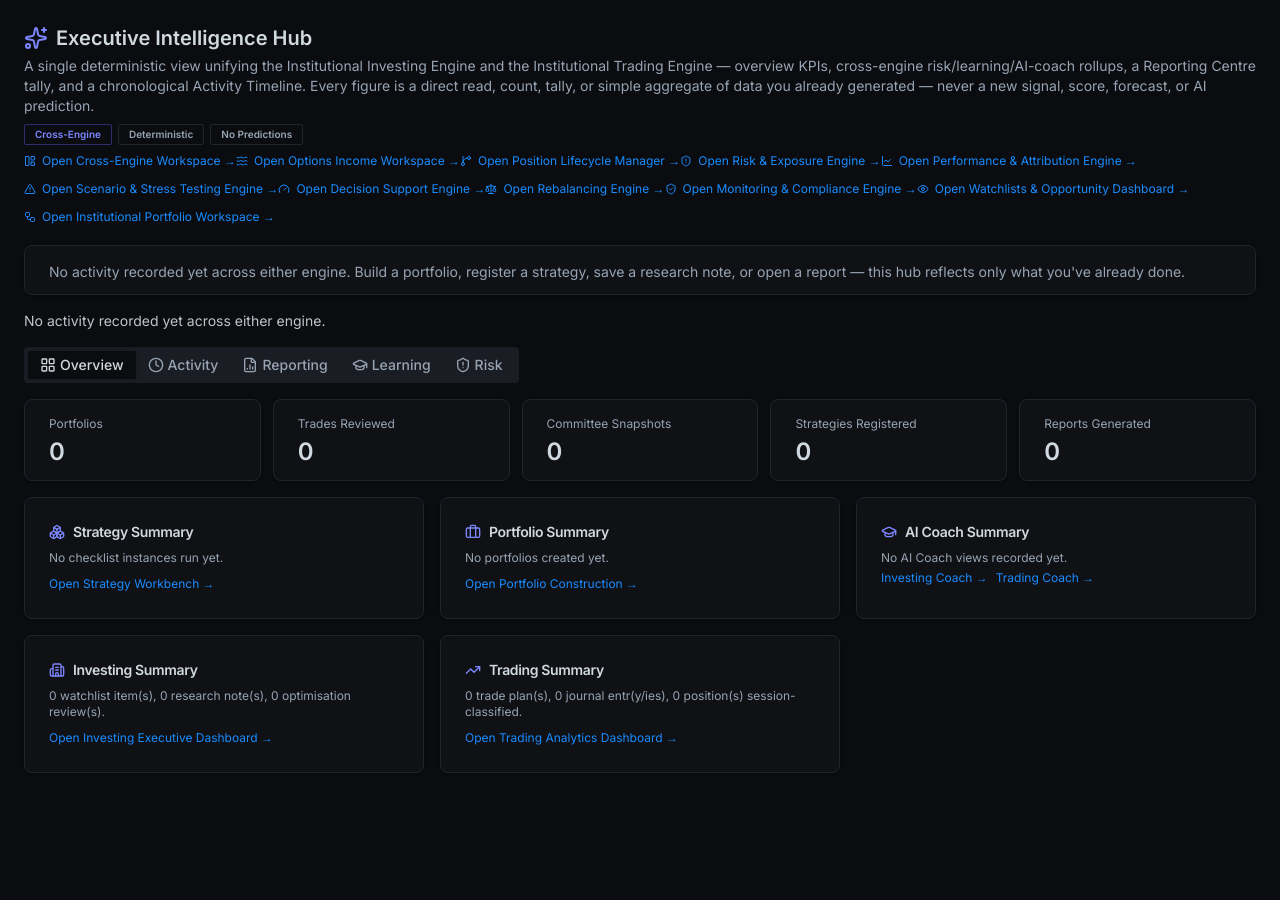
Test: ExecutiveIntelligence page › Activity tab honestly shows an empty message when no activity exists yet
What coordinates should you click on to do the following:
click the tab with test id "tab-executive-activity"
I would click on:
 (183, 365)
Its box is [136,351,230,379].
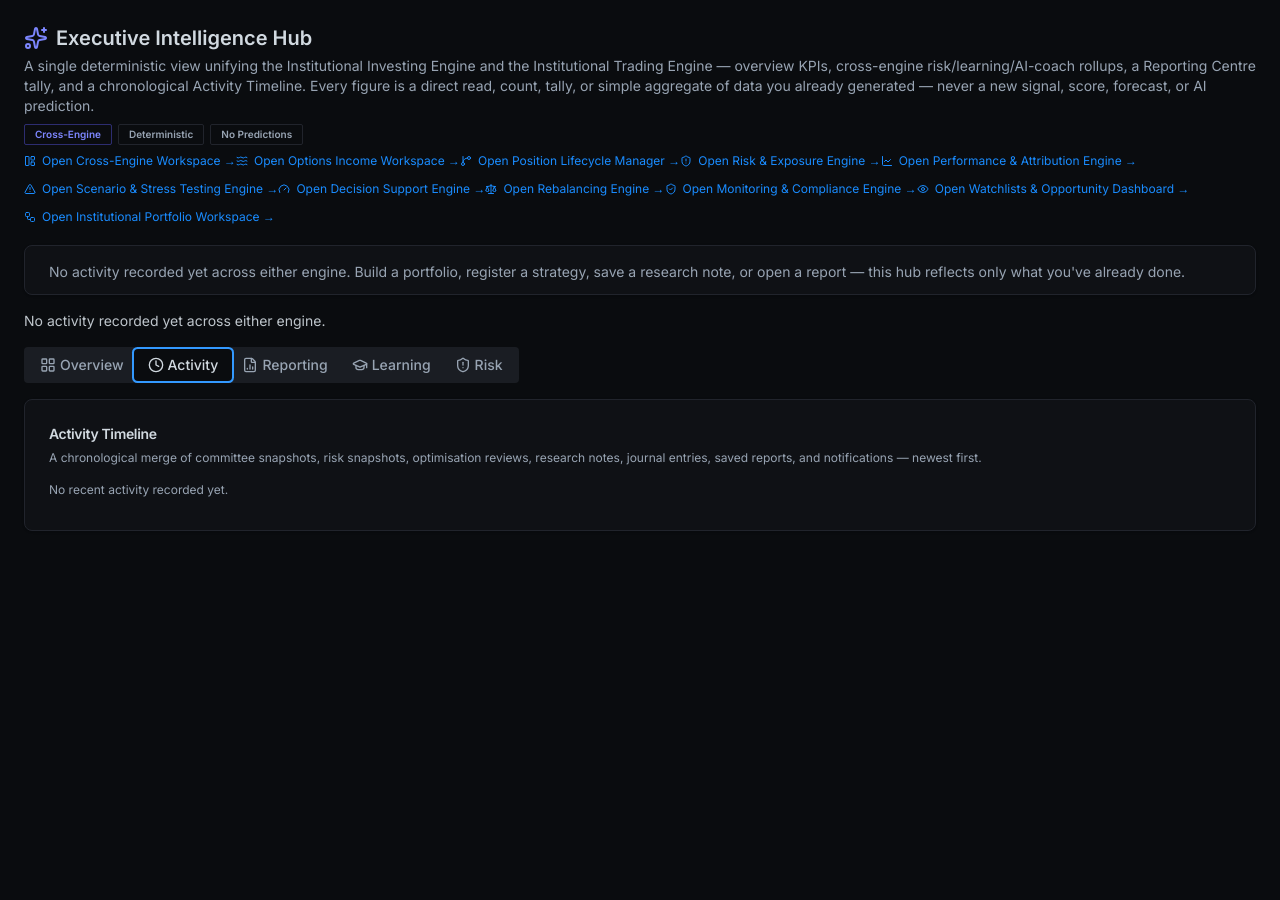
Expected: the text "No recent activity recorded yet." is shown, [49,482,228,497]
